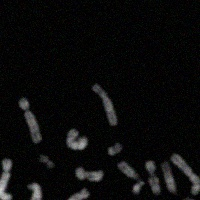chromosome: (172, 154, 200, 194), (19, 97, 41, 142), (93, 83, 117, 124), (0, 158, 13, 200), (145, 161, 160, 195), (160, 161, 175, 192), (66, 128, 87, 149), (75, 168, 102, 182), (117, 162, 138, 179), (62, 188, 89, 200), (27, 182, 41, 200), (39, 155, 54, 168), (109, 143, 121, 156), (132, 180, 144, 193), (184, 197, 200, 200)
